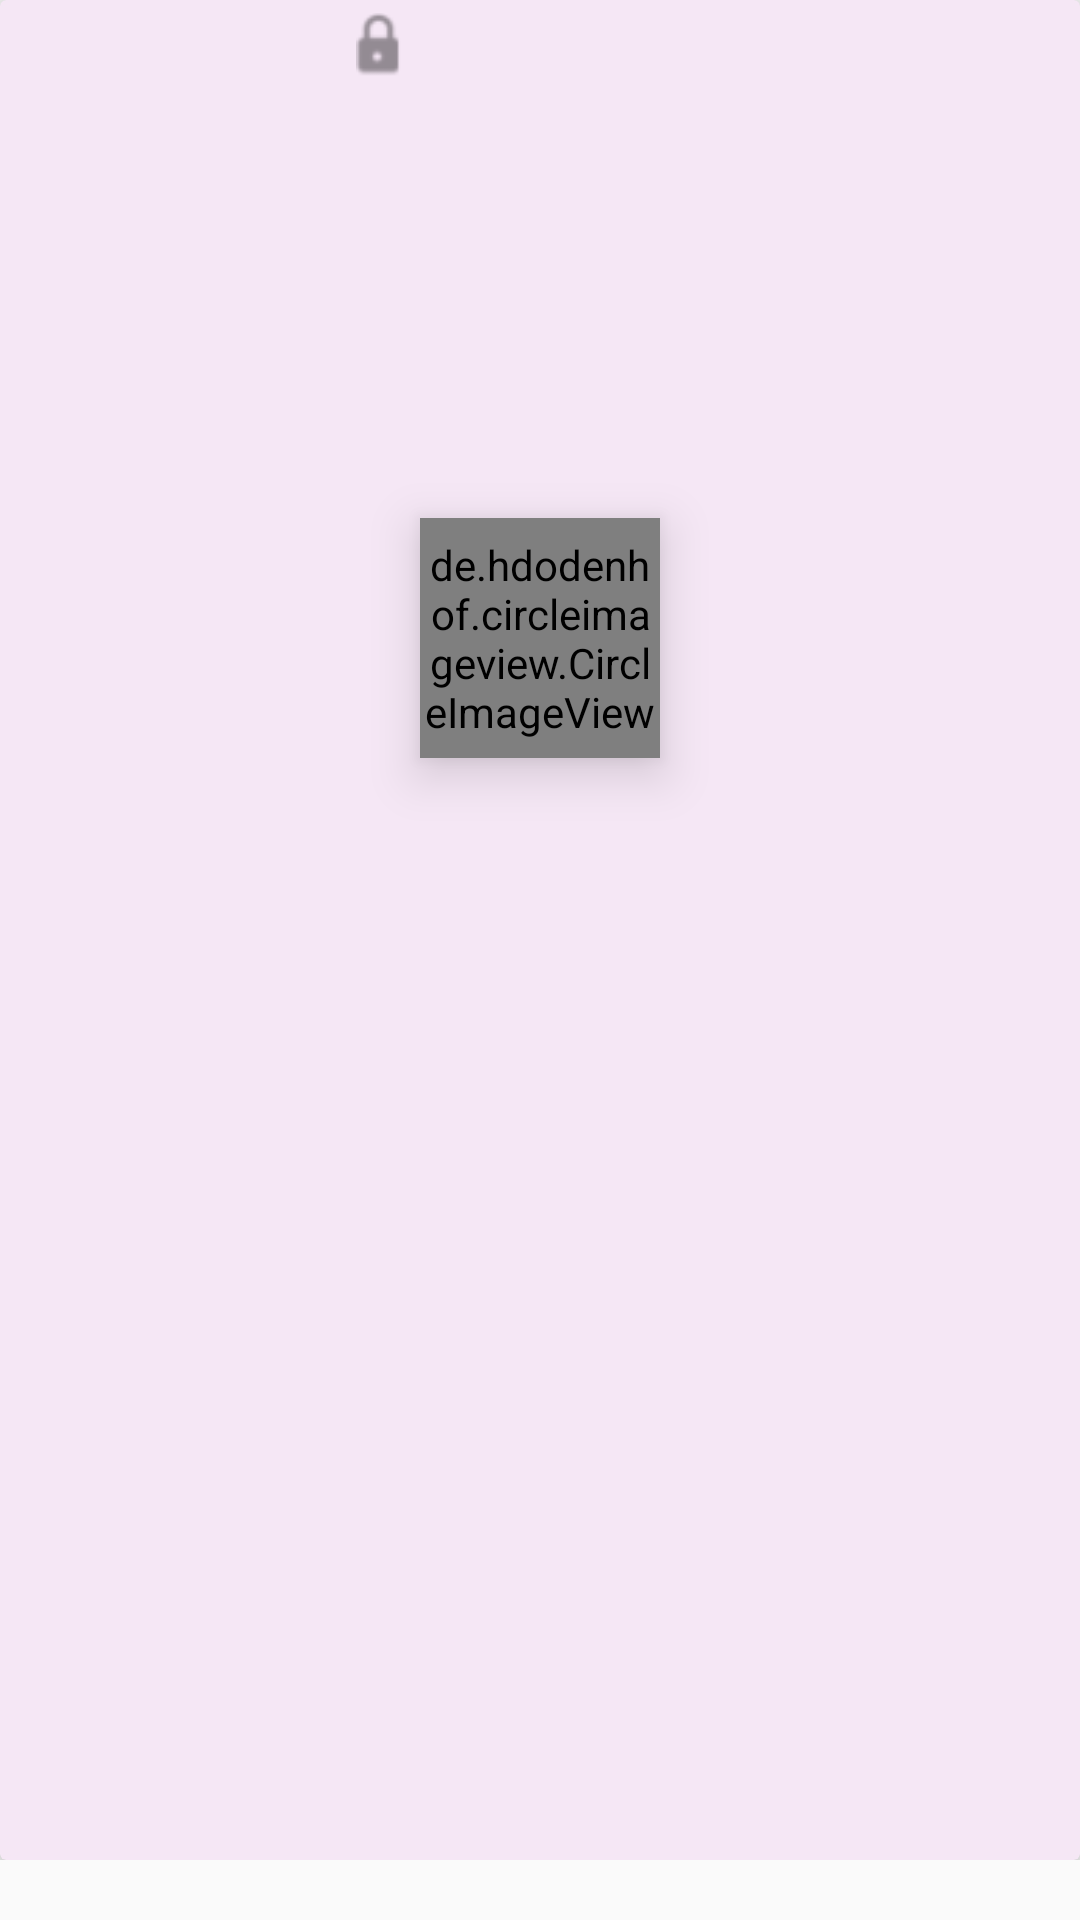

Icon bounding boxes for this 1080×1920 phone screenshot, format (x1=x1, y1=y1, x2=x2, y2=y2):
locker: (x1=356, y1=14, x2=399, y2=74)
